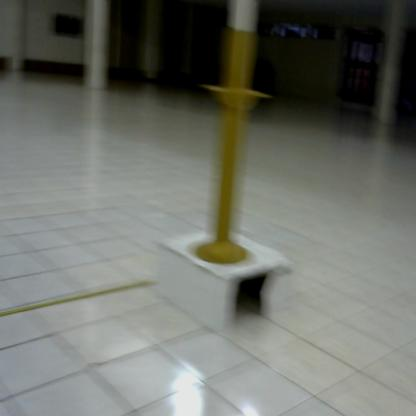pole: (190, 30, 280, 273)
